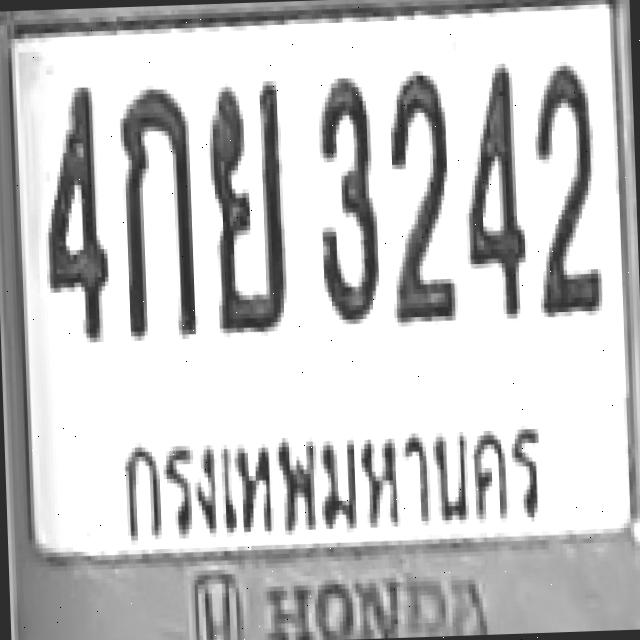10GorGai: (114, 83, 196, 336)
2: (385, 65, 455, 322), (530, 58, 600, 315)
3: (312, 73, 378, 324)
4: (458, 60, 528, 318), (40, 82, 110, 338)
43YorYak: (204, 75, 288, 332)
Bangkok: (112, 408, 568, 559)
